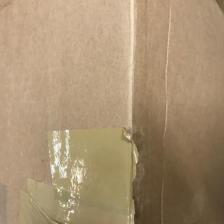cardboard: (10, 6, 224, 223)
